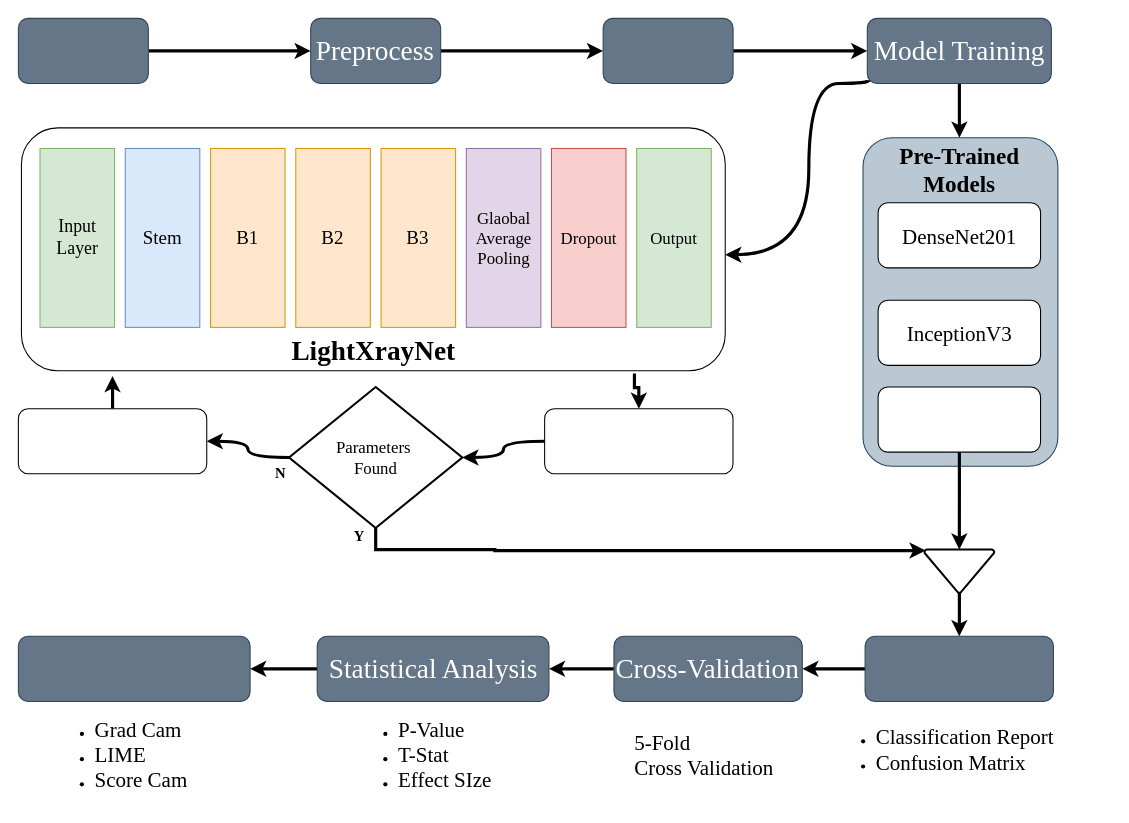
The diagram is 1129 pixels wide and 823 high, and some of its shapes have lost their labels. The shapes that lost their labels are listed below. From the top down, each one's centre as x and y in pixels, then its label:
point 82,50: Dataset
point 667,50: Split
point 959,419: ResNet50V2
point 112,441: Ablation Studies
point 638,441: Tune Hyperparameters
point 133,668: Explainable AI
point 958,668: Evaluation
